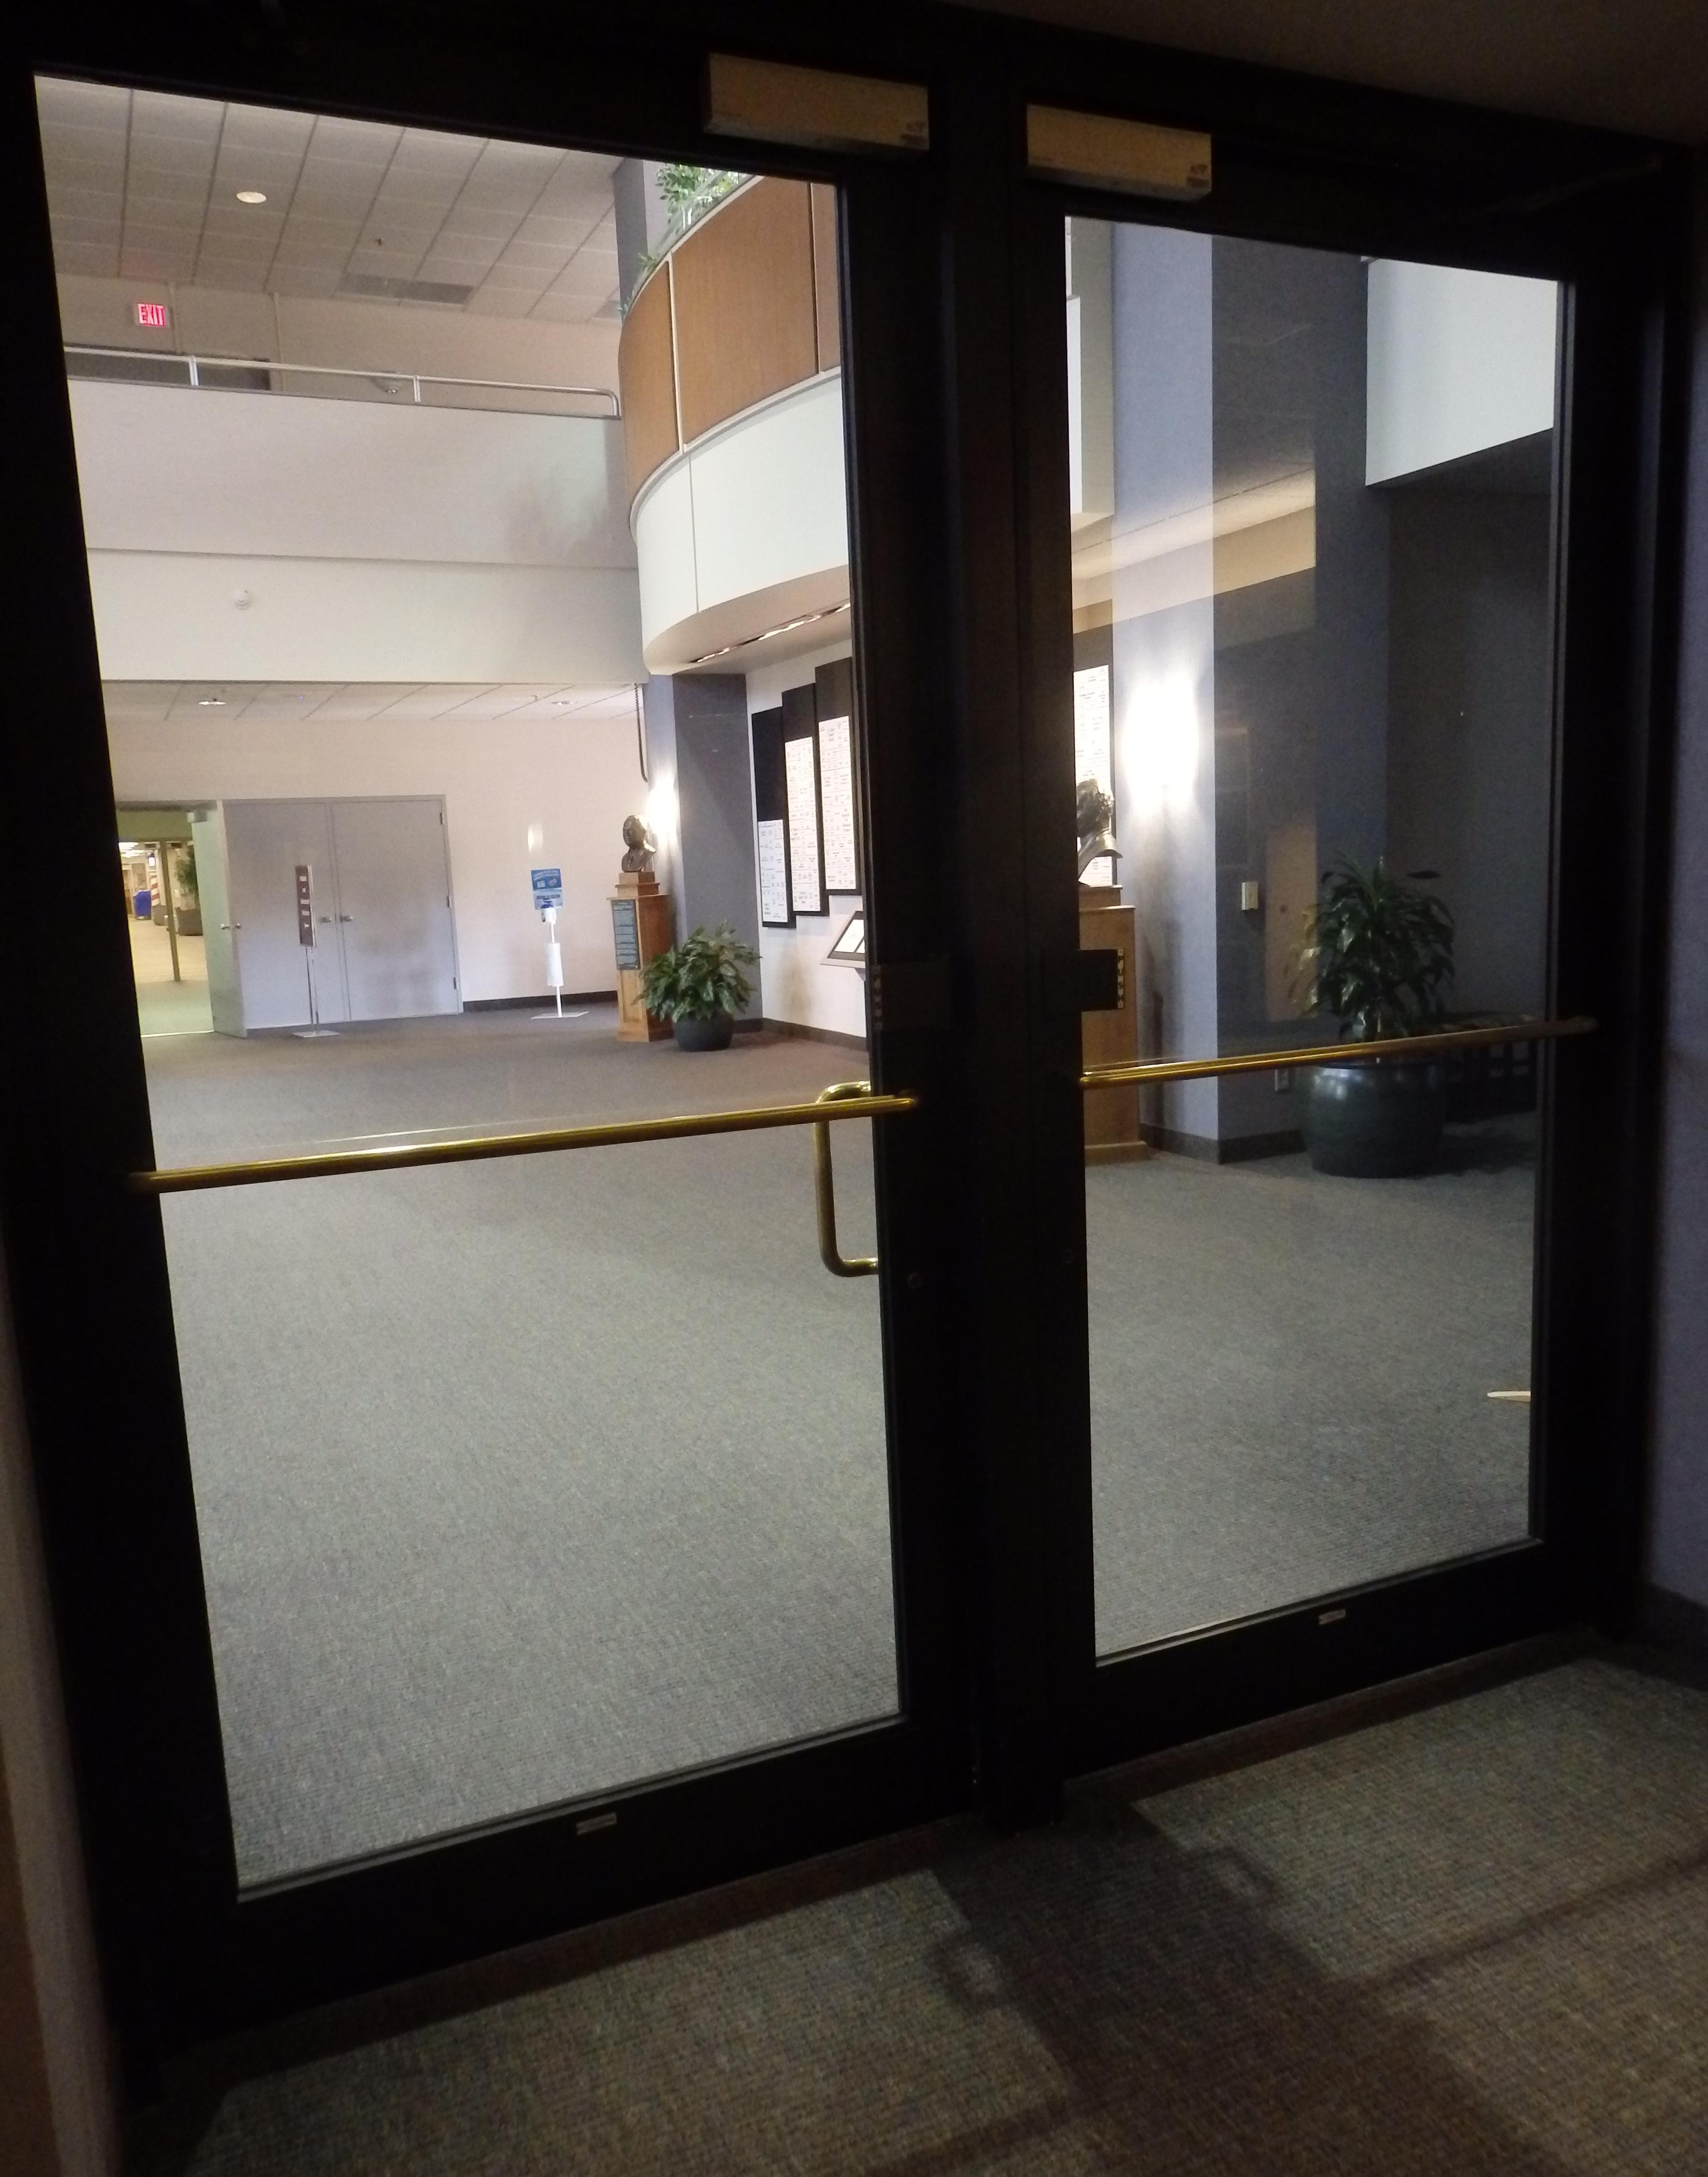door: (9, 27, 1618, 1915)
